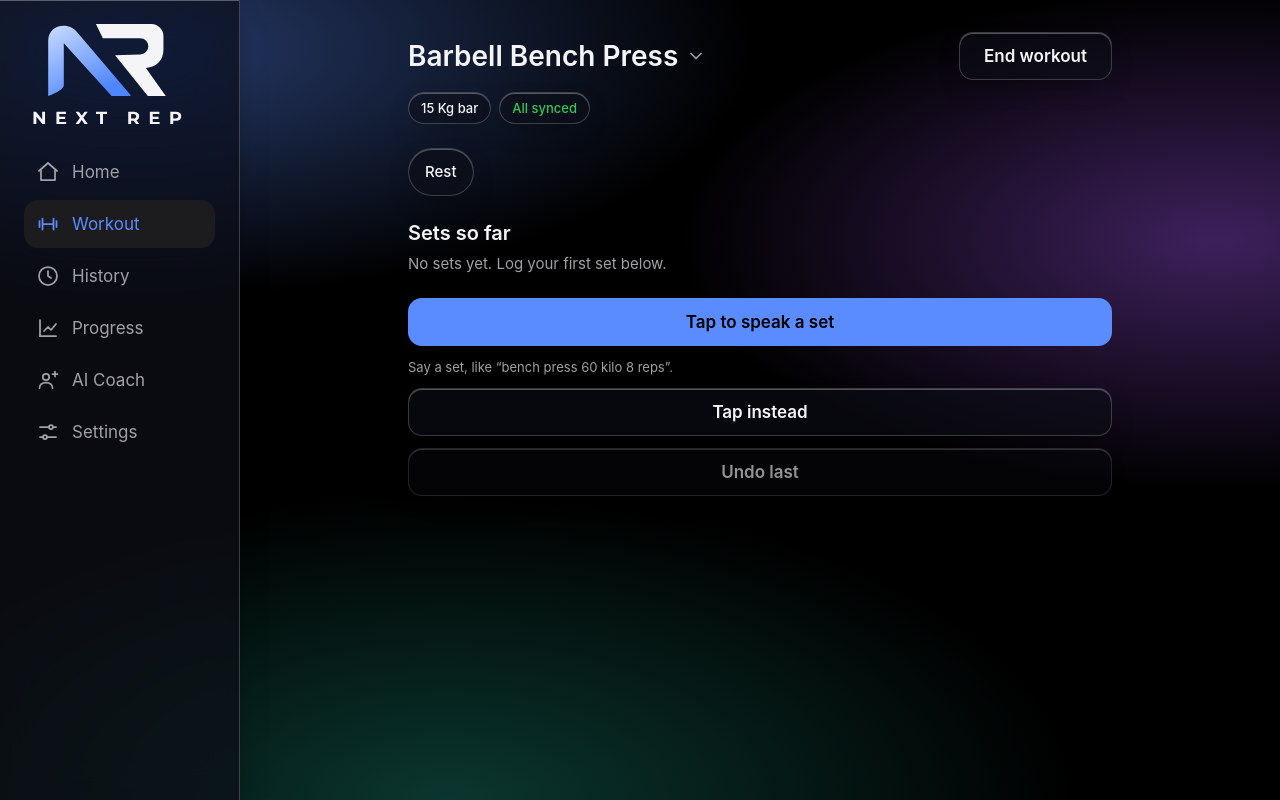
Scenario: a spoken set with a number missing › still says it did not understand when both numbers are missing
Click the button "Tap to speak a set" at point(760, 322), box top-left (408, 298), bottom-right (1112, 346)
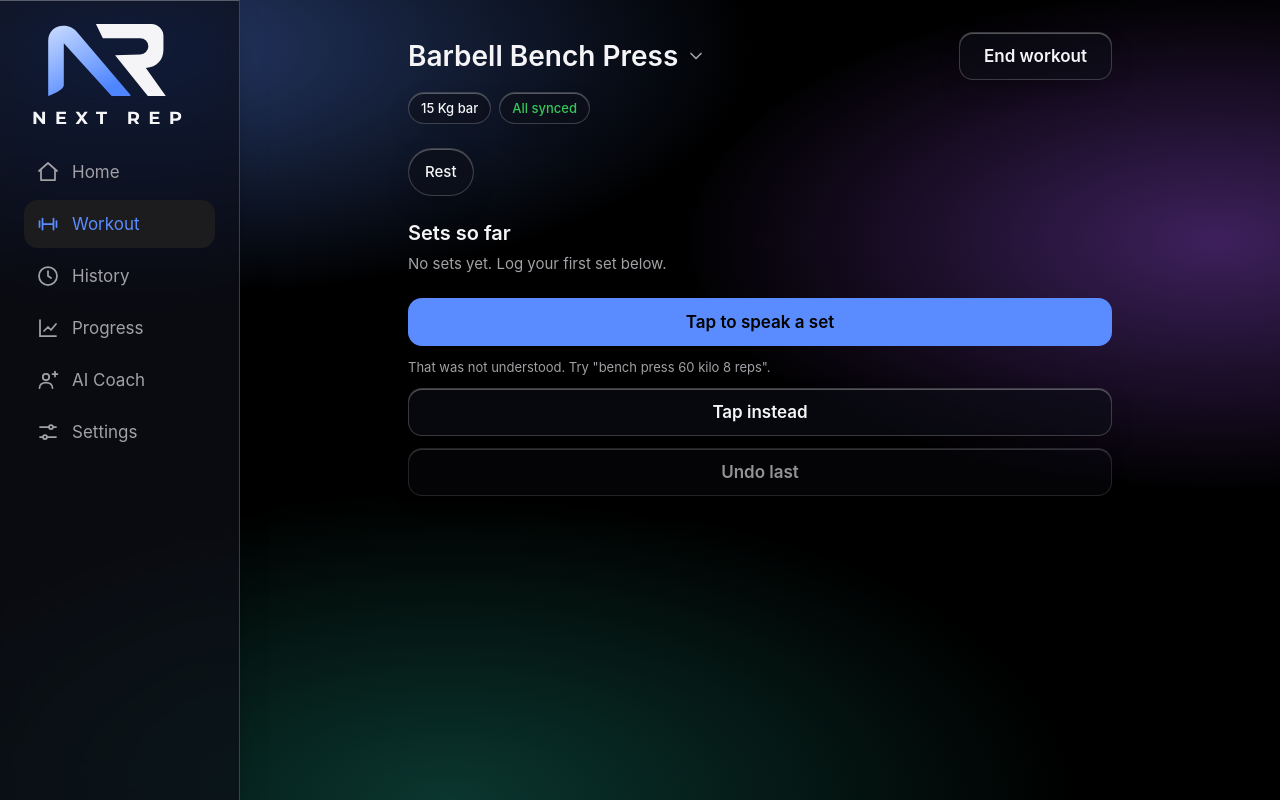
Result: the text "That was not understood. Try \"bench press 60 kilo 8 reps\"." is shown at top-left (408, 359), bottom-right (770, 375)
